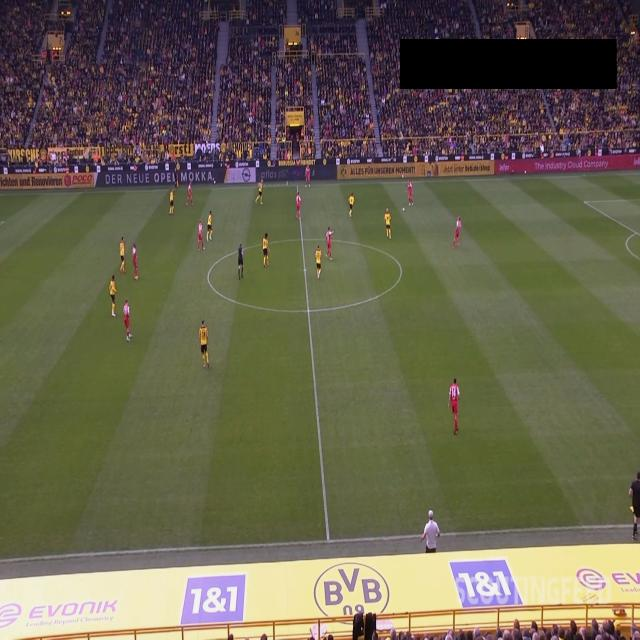ball: (401, 206, 407, 216)
f_player: (449, 376, 462, 436), (198, 320, 210, 370), (131, 240, 143, 280), (108, 278, 120, 316), (261, 232, 271, 267), (326, 226, 336, 258), (196, 222, 206, 254), (124, 301, 132, 341), (316, 246, 325, 280), (452, 218, 462, 248), (118, 236, 126, 270), (383, 211, 392, 241), (303, 162, 313, 188), (206, 211, 214, 243), (256, 180, 266, 204), (314, 252, 322, 280), (168, 190, 176, 218), (296, 192, 303, 220), (406, 182, 414, 206), (188, 178, 194, 208), (348, 194, 356, 216)
umpire: (628, 470, 638, 542), (237, 244, 244, 280)
